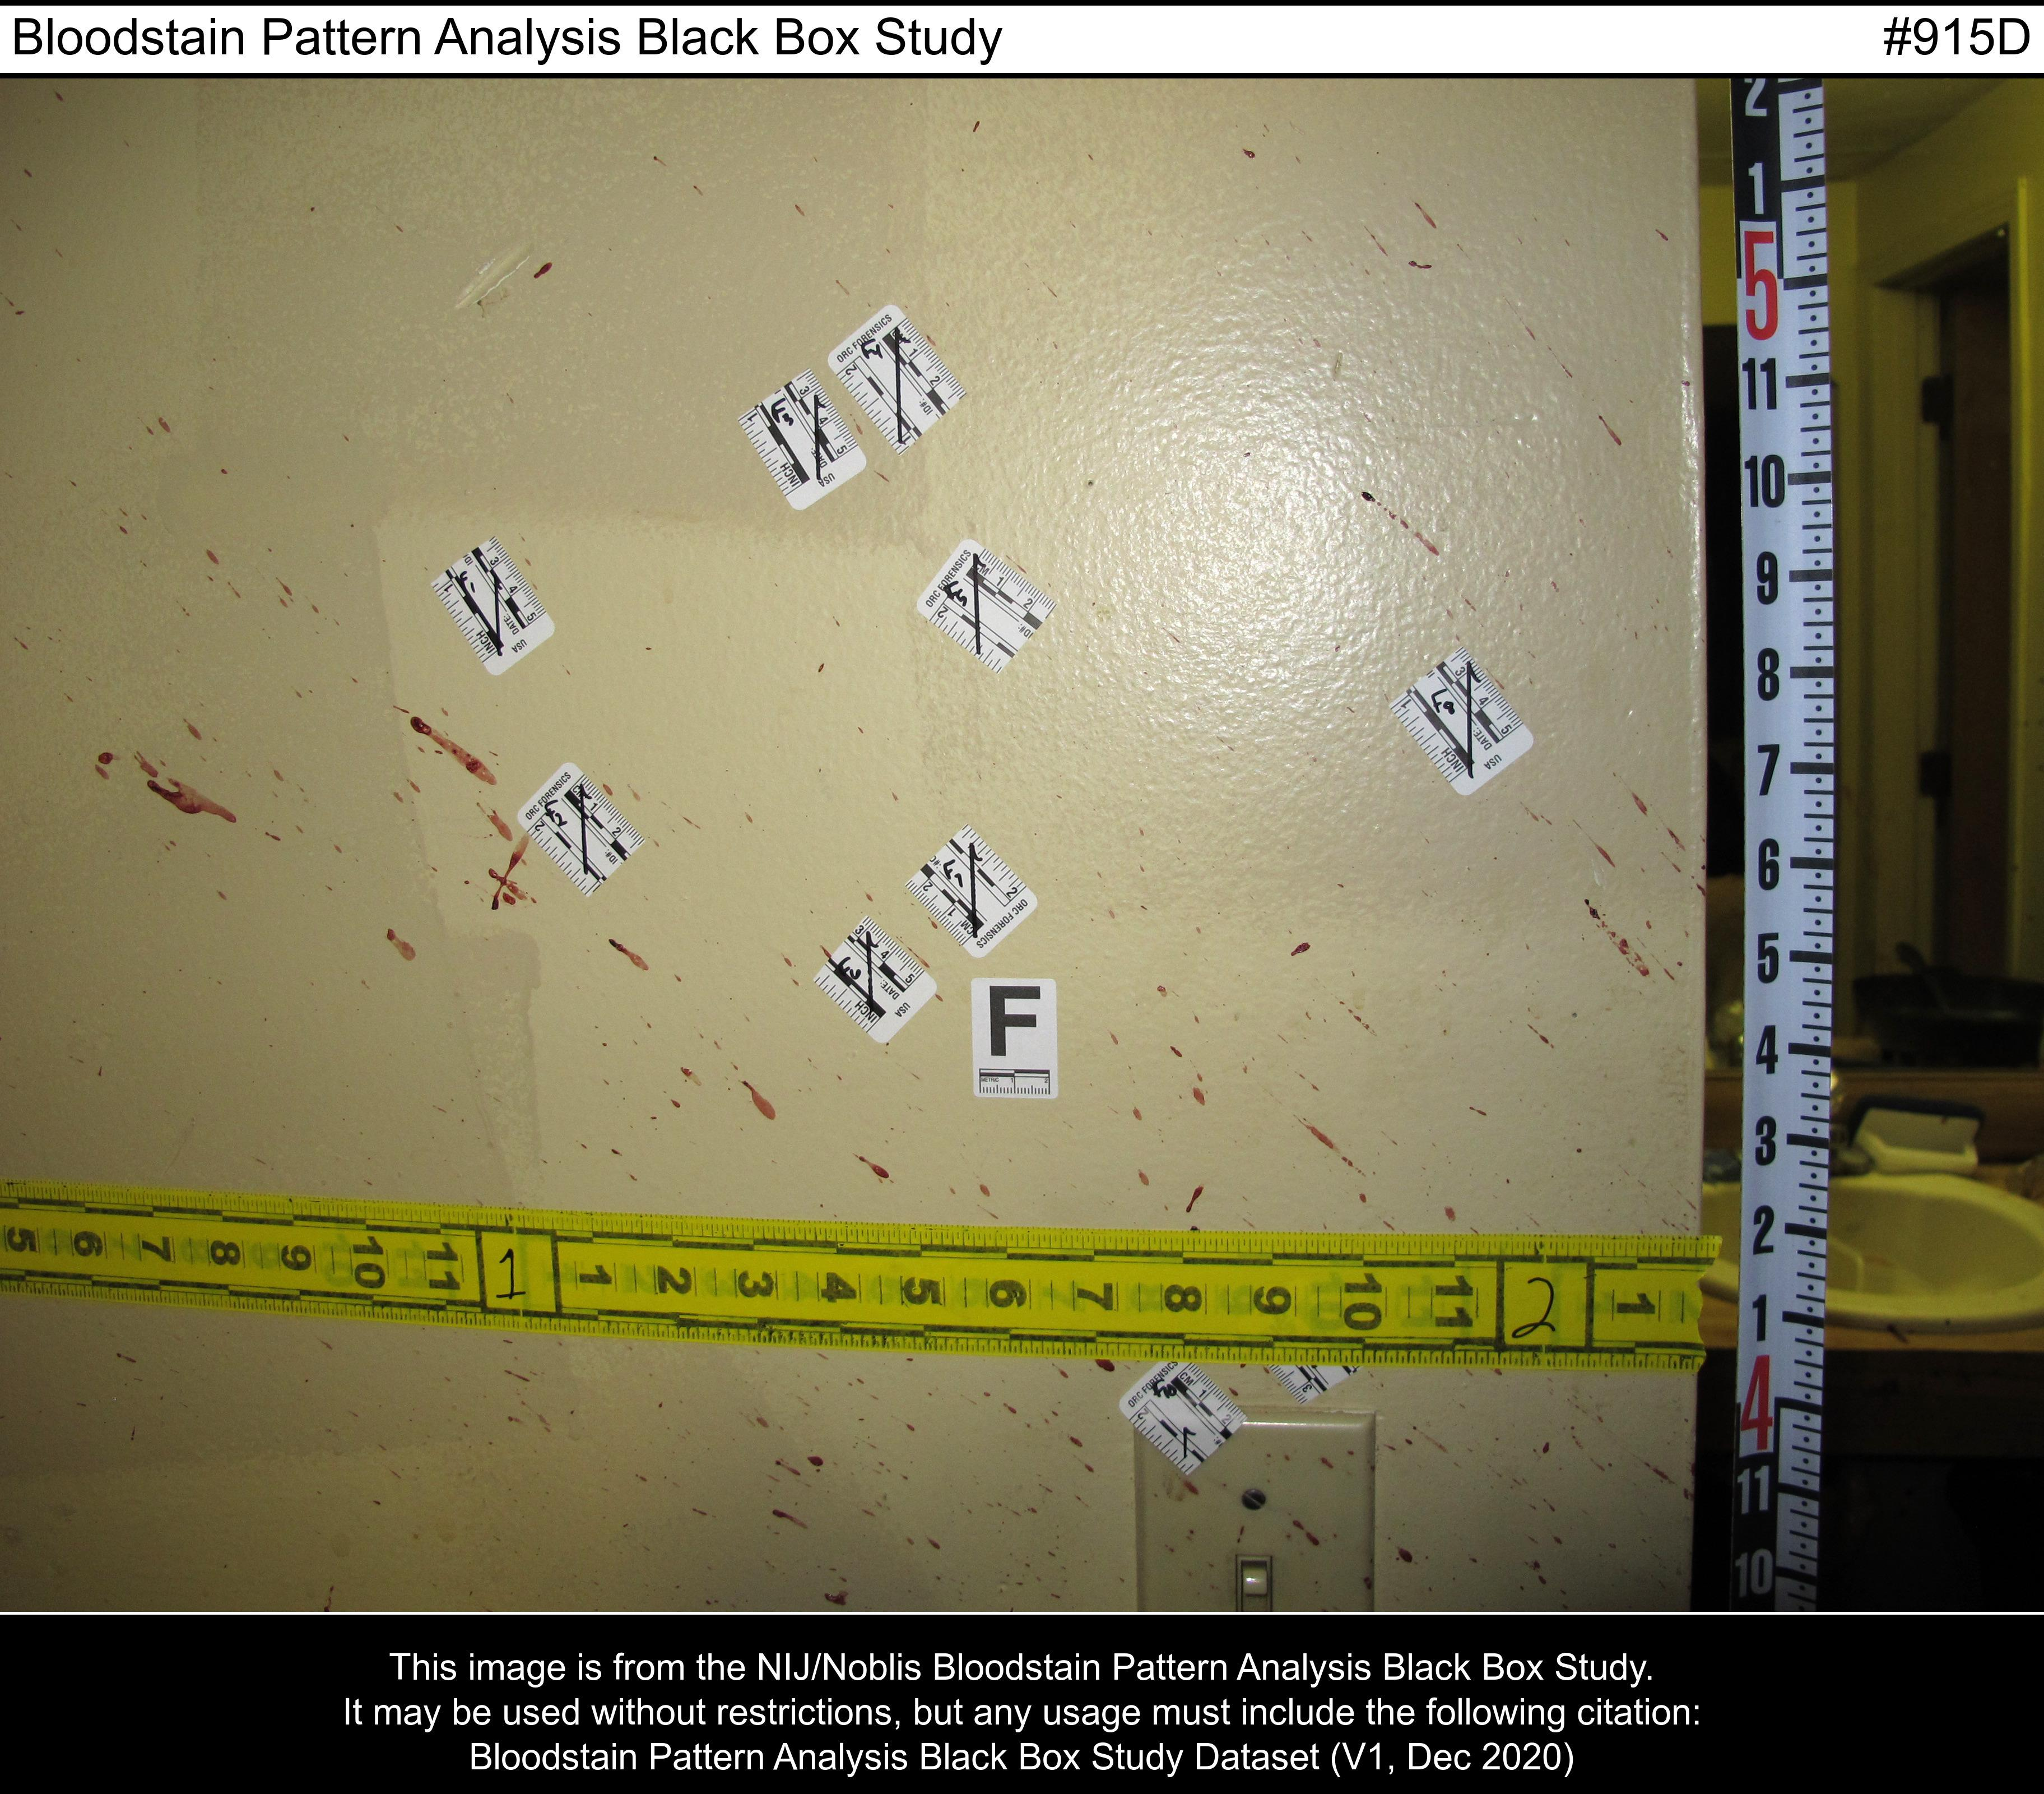Impact: (3, 223, 1710, 1193)
